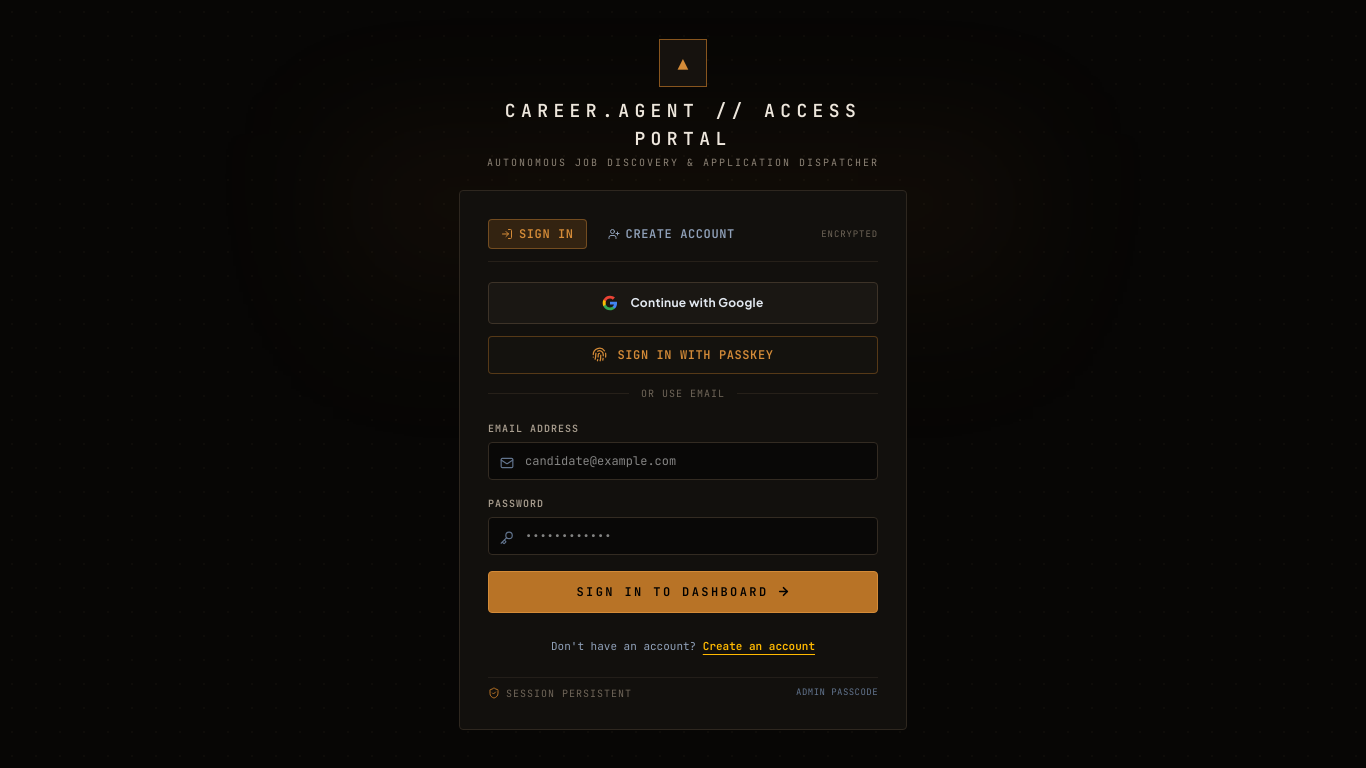
Test: SiteGate Authentication Component › displays real-time password complexity checklist when typing password
Click the button "Create Account" at [671, 234], box [595,218,748,248]
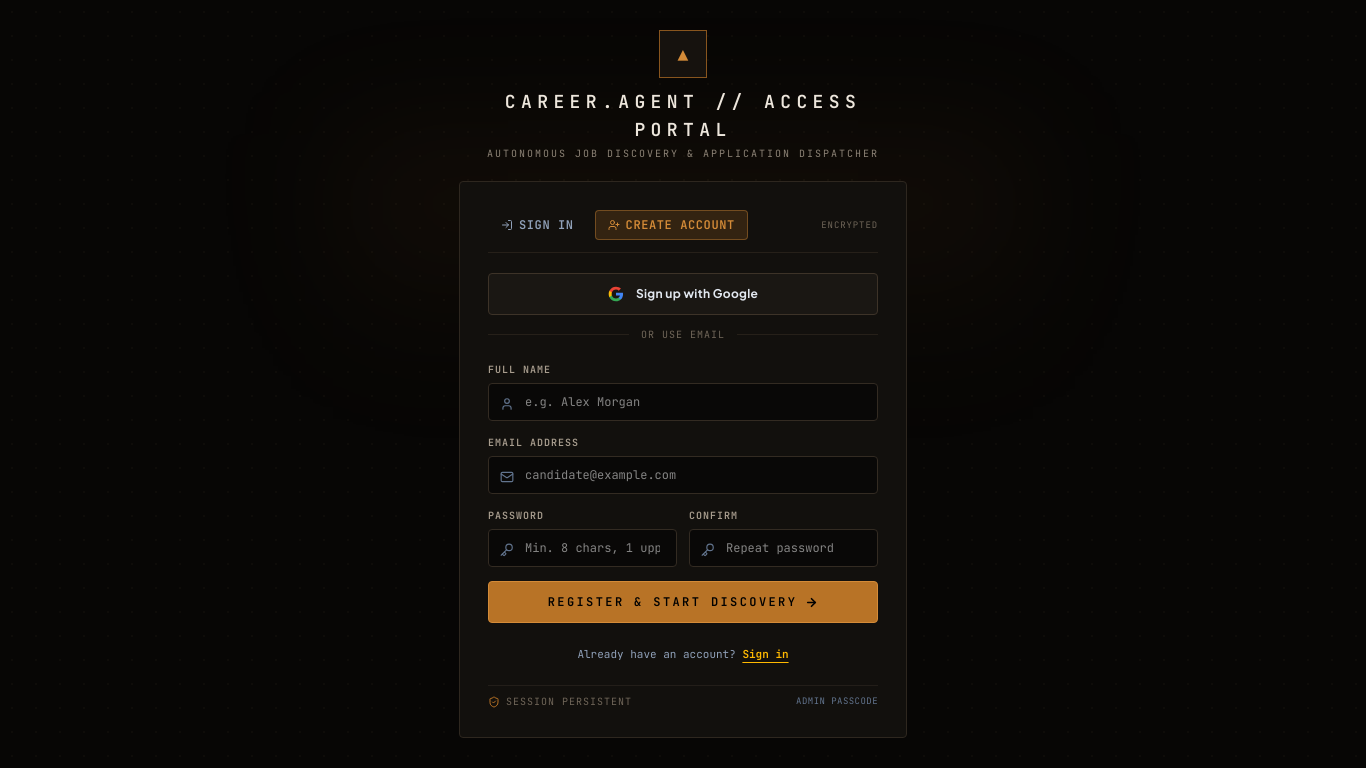
Type "short" into the password field with placeholder "Min. 8 chars, 1 upper, 1 special" at [582, 548], box [488,529,677,567]
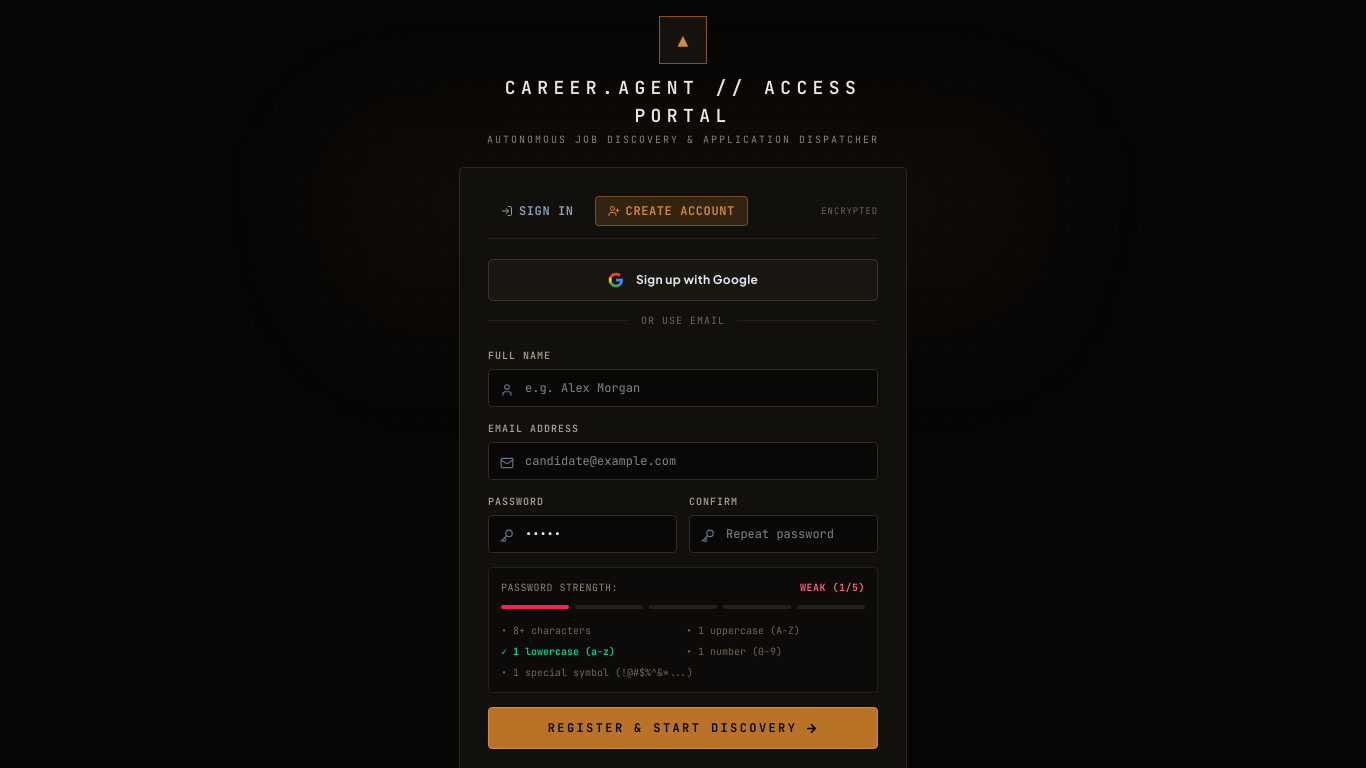
Expected: the text "PASSWORD STRENGTH:" is shown, [501,580,618,595]
Expected: the text "Weak (1/5)" is shown, [800,580,865,595]
Expected: the text "8+ characters" is shown, [513,623,591,638]
Type "StrongPassword123!" into the password field with placeholder "Min. 8 chars, 1 upper, 1 special" at [582, 534], box [488,515,677,553]
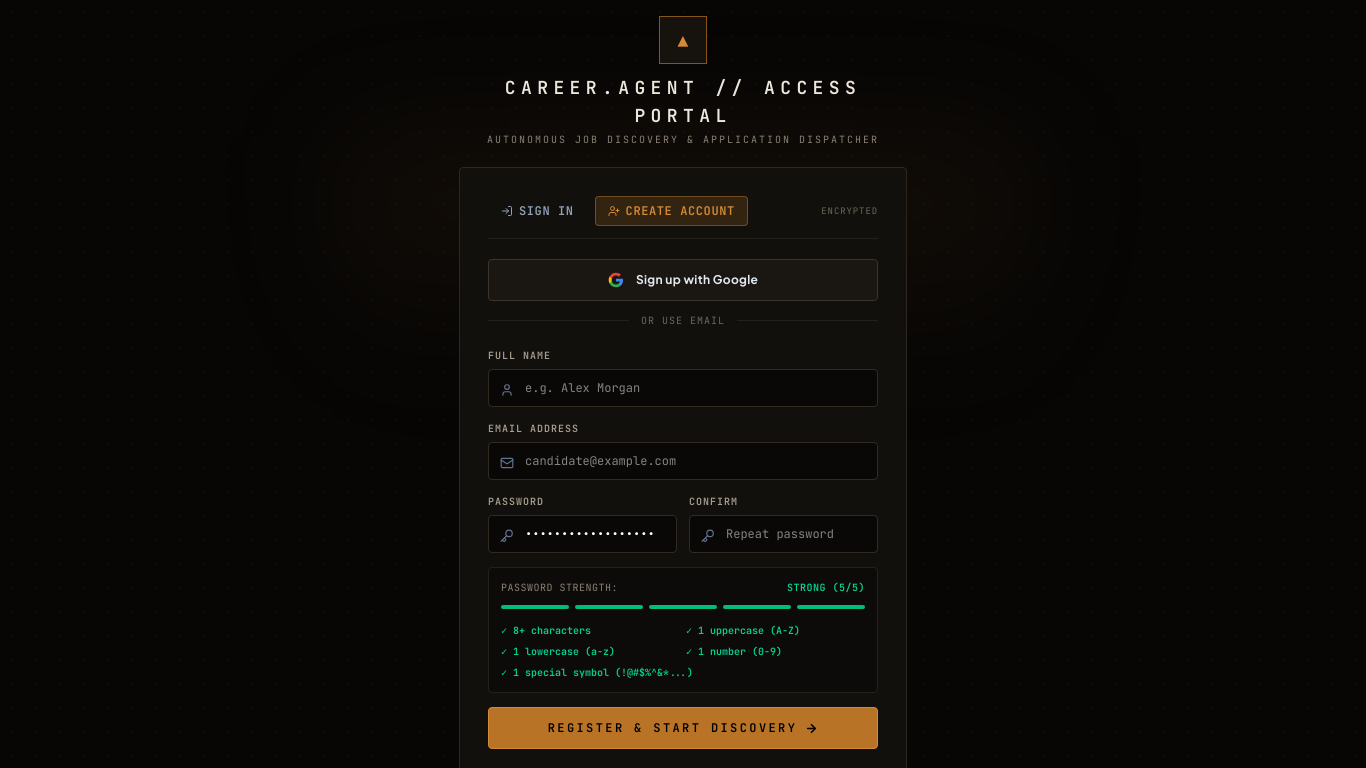
Expected: the text "Strong (5/5)" is shown, [787,580,865,595]
